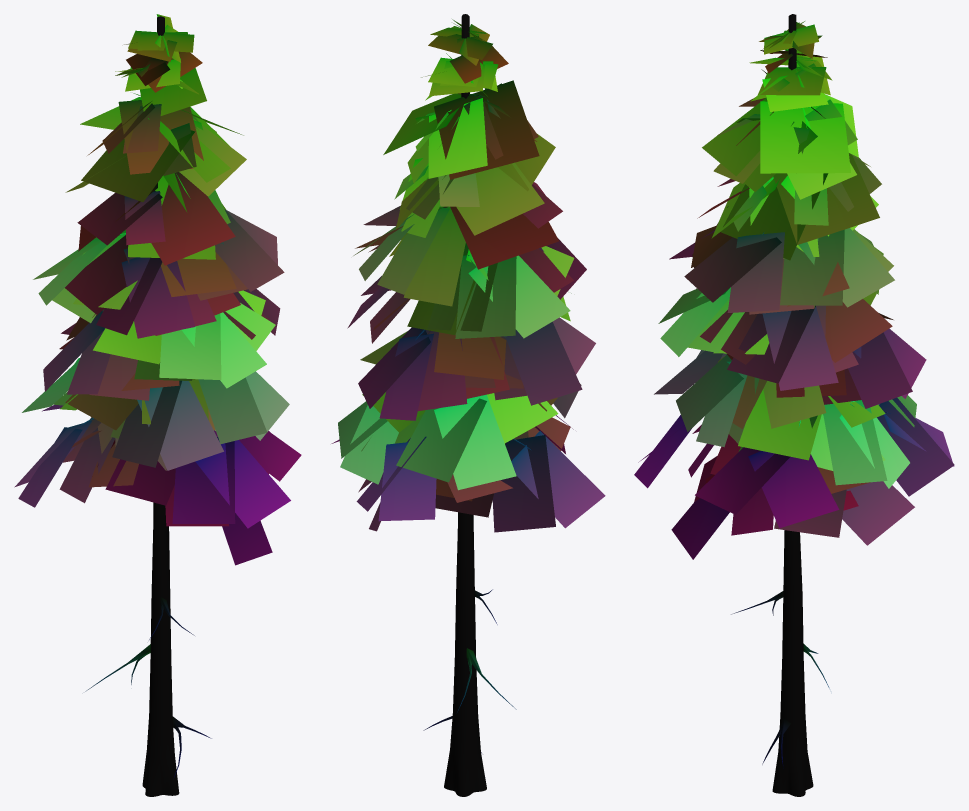
Rendered from M_Pine_4_7.fbx.
3 renders of one model, left to right at view 1: azimuth 30°, elevation 25°; view 2: azimuth 150°, elevation 25°; view 3: azimuth 270°, elevation 25°, orthographic.
Parts seen in each view (by area): view 1: Tree_7; view 2: Tree_7; view 3: Tree_7.
Boxes of the visible parts, left/top/right/bottom form: Tree_7: left=14, top=14, right=301, bottom=796; Tree_7: left=331, top=14, right=605, bottom=796; Tree_7: left=634, top=14, right=954, bottom=796.
Size of the model in its own units: 1107 by 3248 by 1219.
